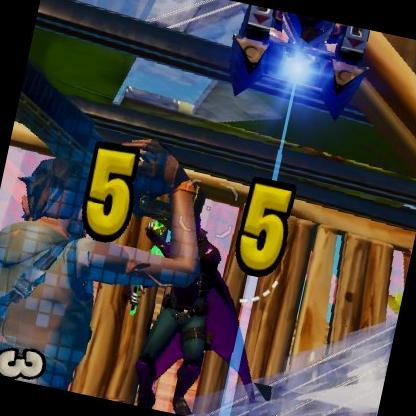person: (146, 226, 247, 416)
